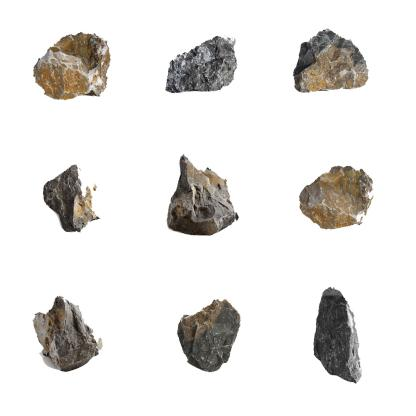Igneous_Granite: (278, 136, 380, 239), (153, 19, 246, 107), (282, 17, 376, 102), (311, 268, 378, 384), (26, 22, 118, 106), (172, 285, 253, 380), (155, 150, 240, 233), (25, 289, 105, 375), (37, 164, 107, 235)
